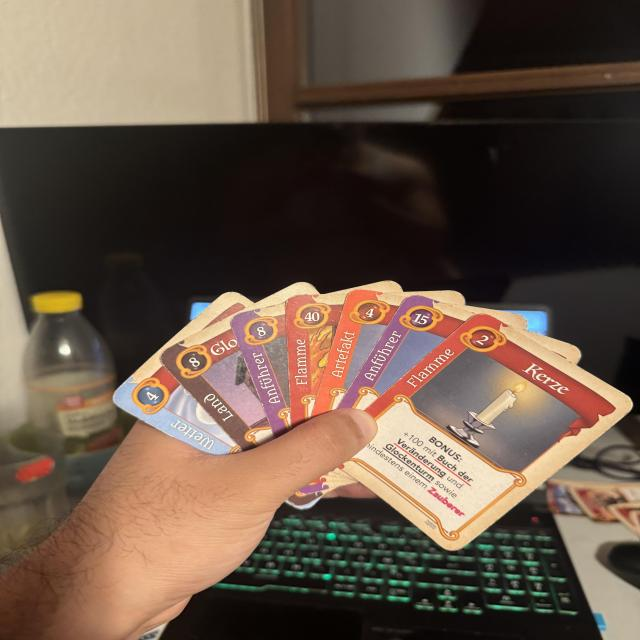Air Elemental: (106, 355, 245, 453)
Candle: (339, 312, 637, 555)
Clock Tower: (157, 318, 278, 453)
Empress: (338, 293, 477, 412)
King: (228, 302, 294, 439)
Shield Of Keth: (311, 289, 406, 418)
Wildfire: (287, 293, 347, 430)
